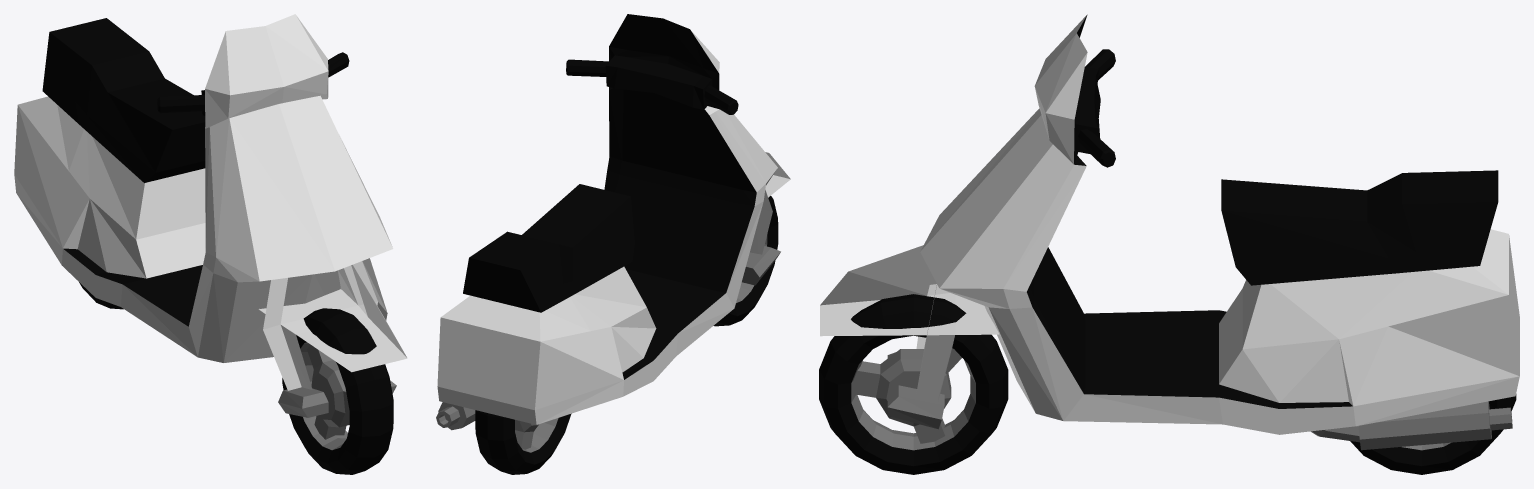
Rendered from scooter.glb.
3 views of the same model, side by side, from view 1: azimuth 30°, elevation 25°; view 2: azimuth 150°, elevation 25°; view 3: azimuth 270°, elevation 25° (orthographic). The views are drawn at different scales.
Visible parts, largest first — view 1: Scooter; view 2: Scooter; view 3: Scooter.
Part boxes in pixels (x1,y1,x2,y2): Scooter: [14, 14, 407, 474]; Scooter: [436, 14, 790, 474]; Scooter: [819, 14, 1519, 474].
Bounding box in the file's own units: 42.39 × 82.92 × 120.
Materials: 1 (1 with a texture image).
